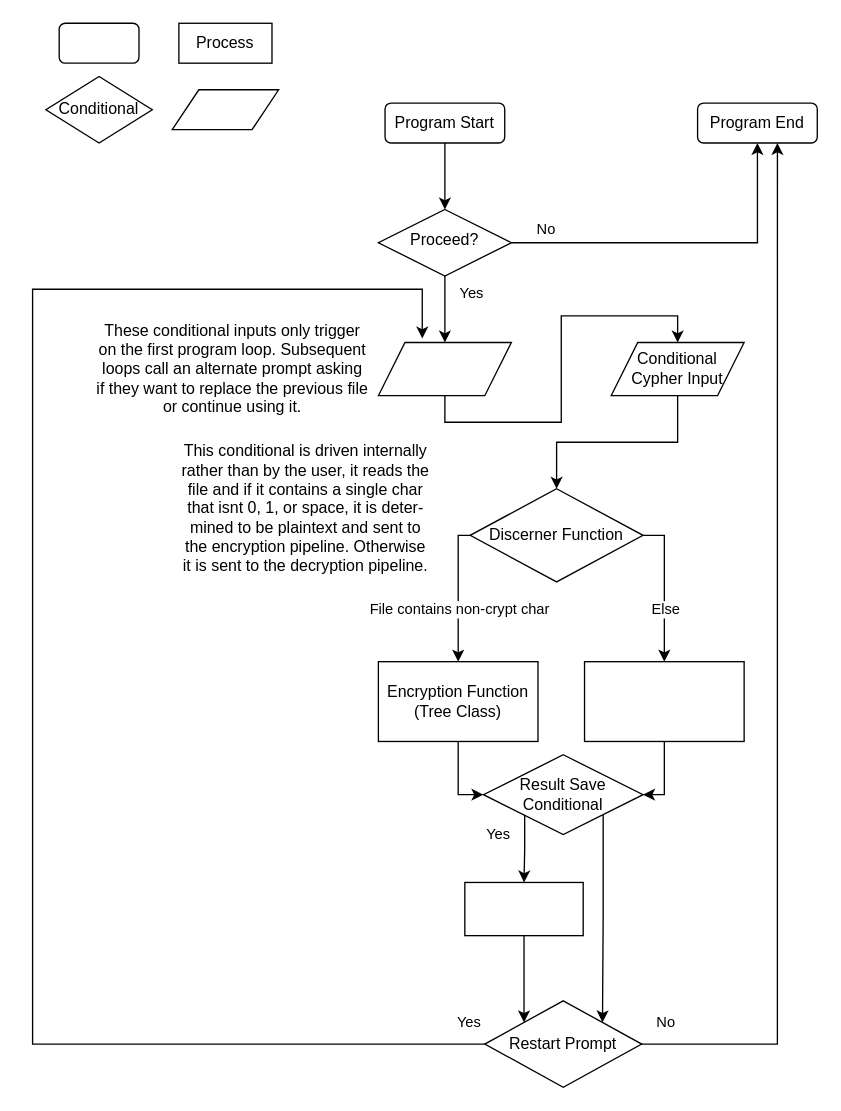
The diagram is 841 pixels wide and 1111 high, and some of its shapes have lost their labels. Here are the shapes that lost their labels. From the top down, the box of each, then its label:
(58, 22, 139, 63): Terminus
(171, 88, 279, 130): Input
(377, 341, 511, 396): Conditional File Input
(583, 660, 744, 741): Decryption Function (Hash Map Class)
(464, 881, 583, 936): Console / File Result Print
